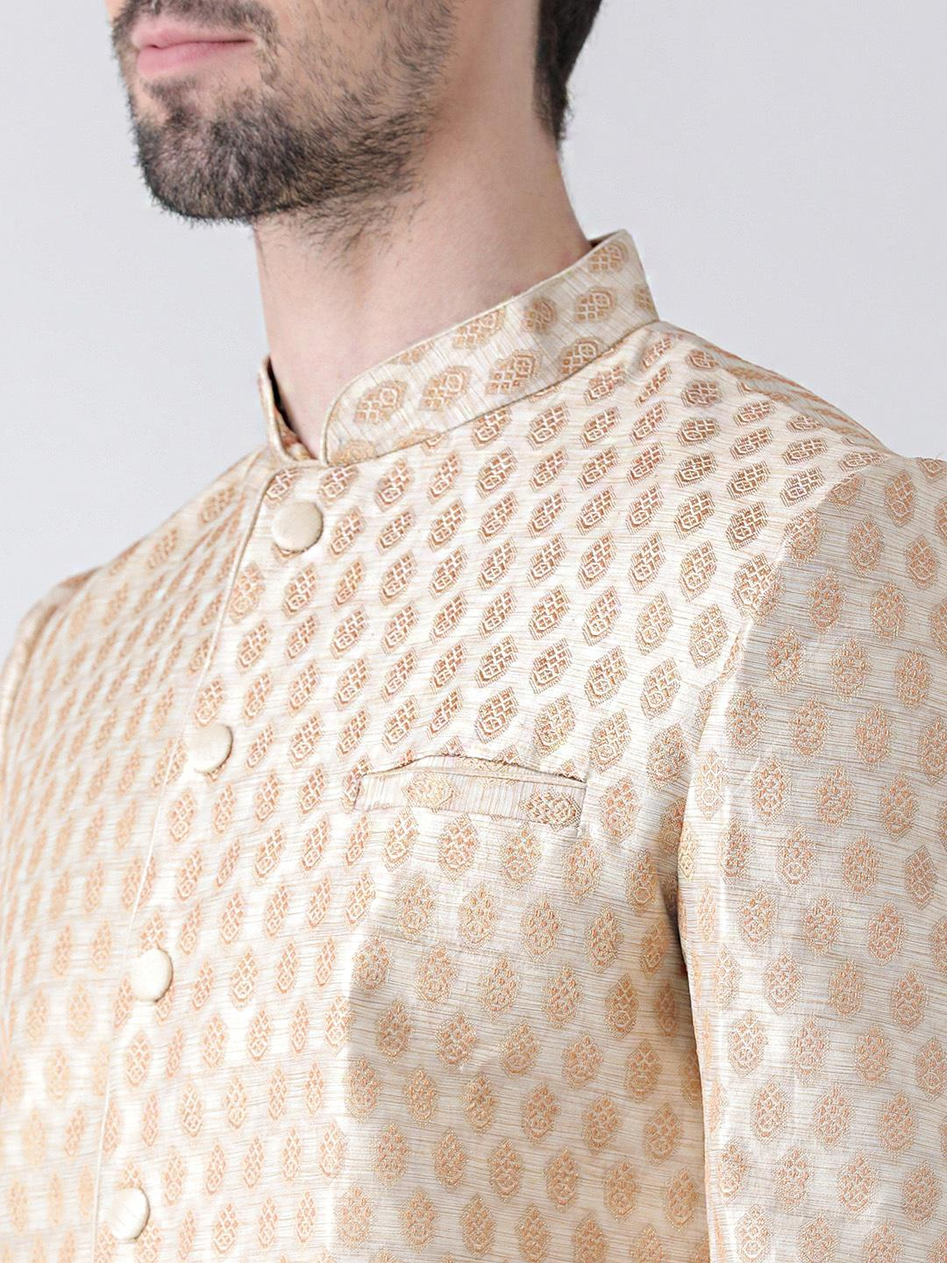Design Sherwani: (4, 227, 946, 1262)
